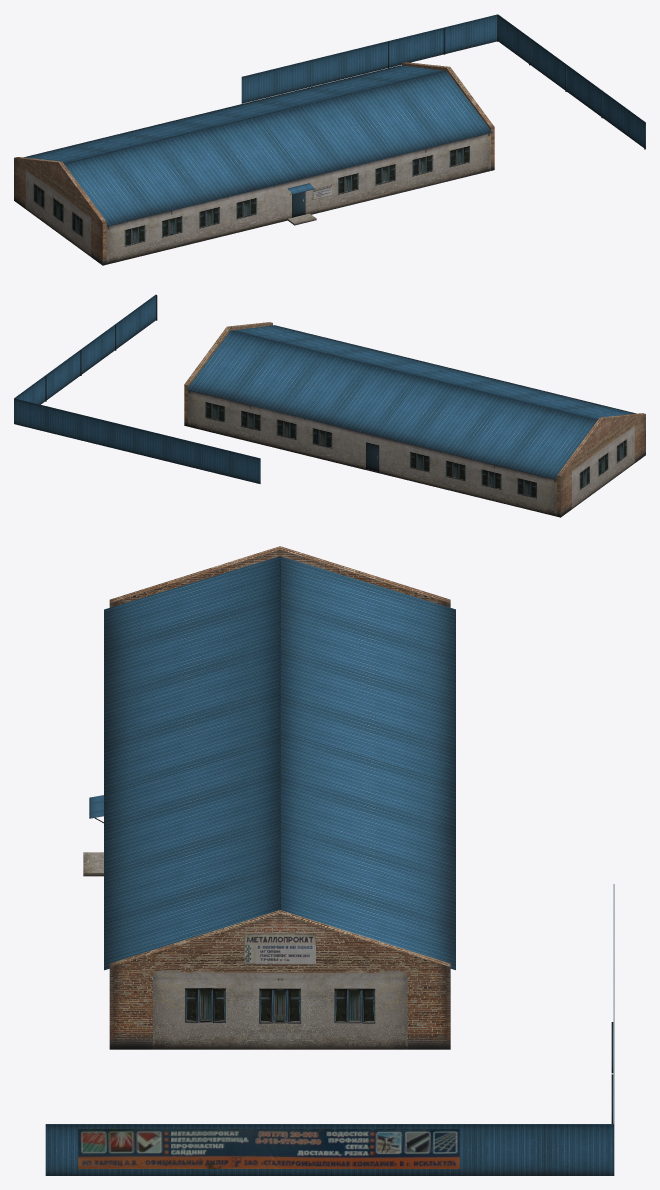
Rendered from r254_isilkul_metalloprokat.FBX.
3 views of the same model, one above another, from view 1: azimuth 30°, elevation 25°; view 2: azimuth 150°, elevation 25°; view 3: azimuth 270°, elevation 25° (orthographic). The views are drawn at different scales.
Visible parts, largest first — view 1: r254_isilkul_metalloprokat; view 2: r254_isilkul_metalloprokat; view 3: r254_isilkul_metalloprokat.
Boxes of the visible parts, x1,y1,x2,y2 form: r254_isilkul_metalloprokat: [14, 14, 645, 265]; r254_isilkul_metalloprokat: [14, 294, 645, 517]; r254_isilkul_metalloprokat: [45, 546, 614, 1175].
Size of the model in its own units: 41.13 by 20 by 5.28.
